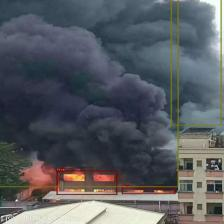fire: (56, 170, 117, 195), (122, 188, 175, 194)
smoke: (0, 0, 178, 187), (170, 0, 222, 125)
